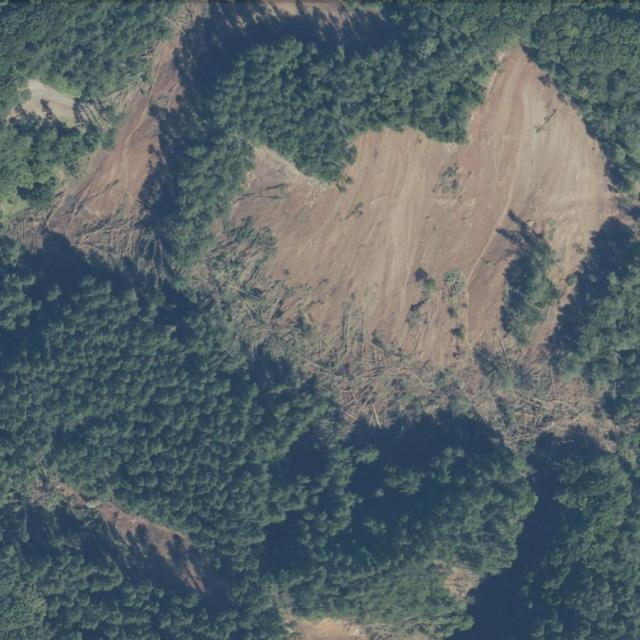landslide: (194, 46, 625, 458), (46, 33, 180, 251), (47, 98, 159, 247)
